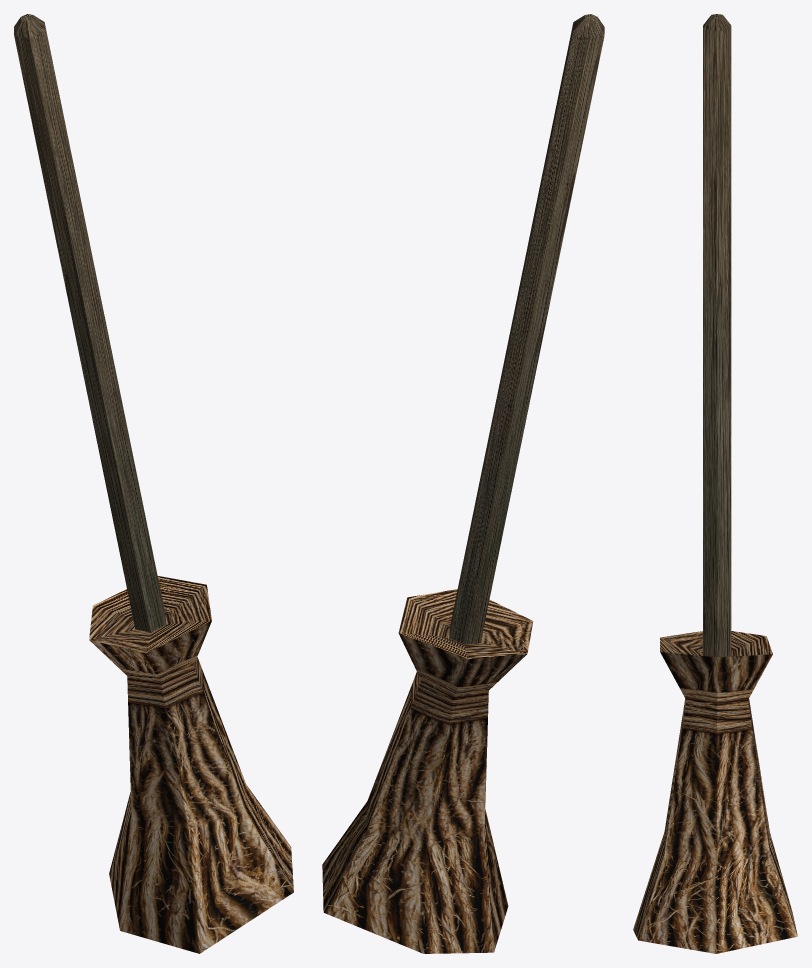
The model's file is mm9_deco_broom.glb.
3 views of the same model, side by side, from view 1: azimuth 30°, elevation 25°; view 2: azimuth 150°, elevation 25°; view 3: azimuth 270°, elevation 25° (orthographic). The views are drawn at different scales.
Visible parts, largest first — view 1: Broom; view 2: Broom; view 3: Broom.
Boxes of the visible parts, x1,y1,x2,y2 form: Broom: [14, 14, 293, 953]; Broom: [322, 14, 604, 953]; Broom: [633, 14, 797, 953].
Size of the model in its own units: 0.5774 by 1.87 by 0.3246.
2 materials, 2 textured.
